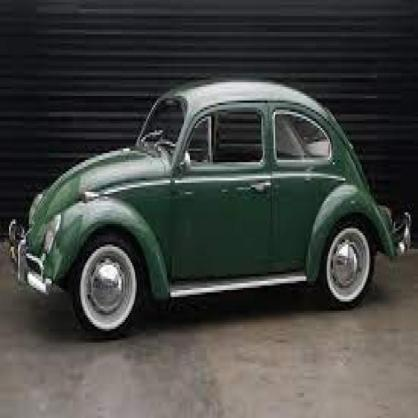car: (13, 81, 409, 339)
